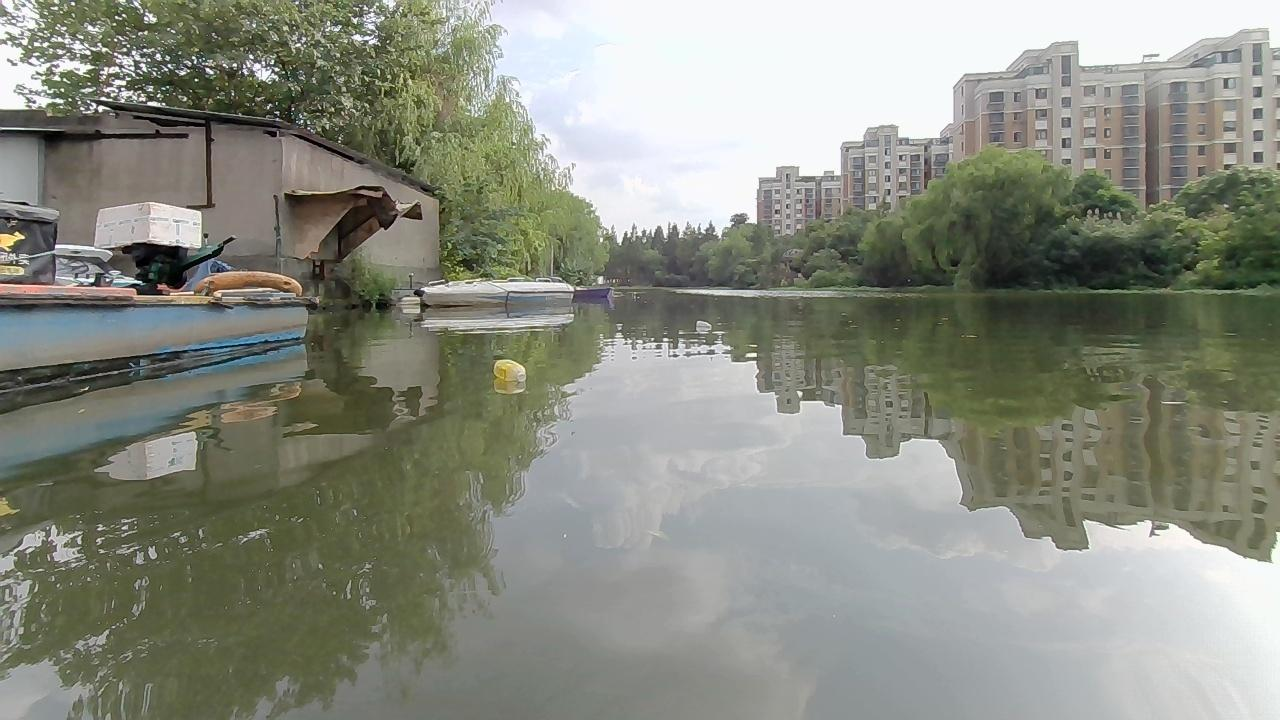bottle: (491, 359, 531, 386), (694, 316, 715, 335)
